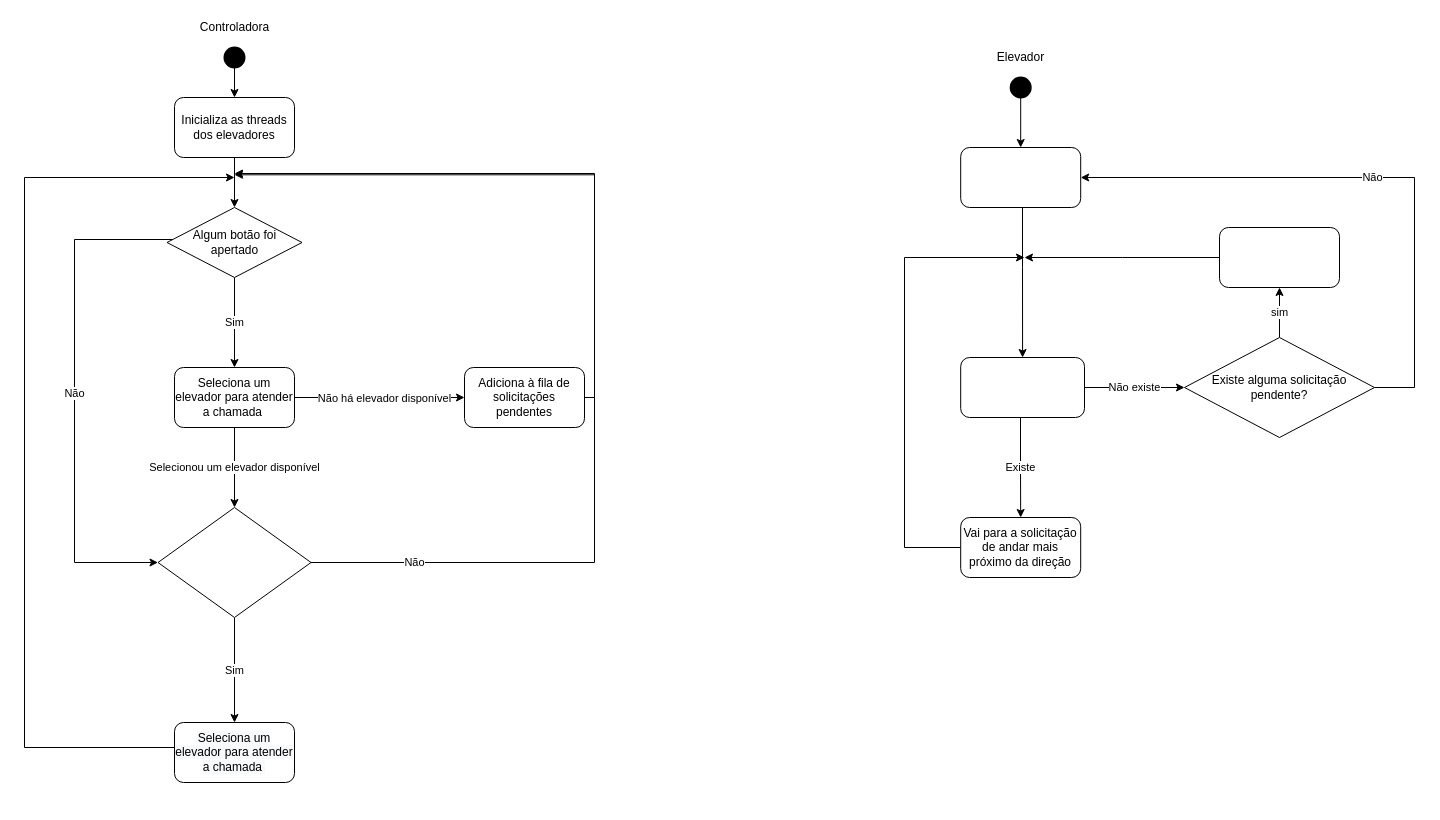
The diagram is 1440 pixels wide and 820 high, and some of its shapes have lost their labels. Each missing label, with the box of its shape:
A fila de solicitações pendentes está vazia?: (157, 506, 311, 618)
Espera alguma solicitação e seta a direção para ela: (960, 146, 1081, 208)
Muda a direção setada: (1218, 226, 1340, 288)
Verifica se há alguma solicitação na direção setada: (960, 356, 1084, 418)
